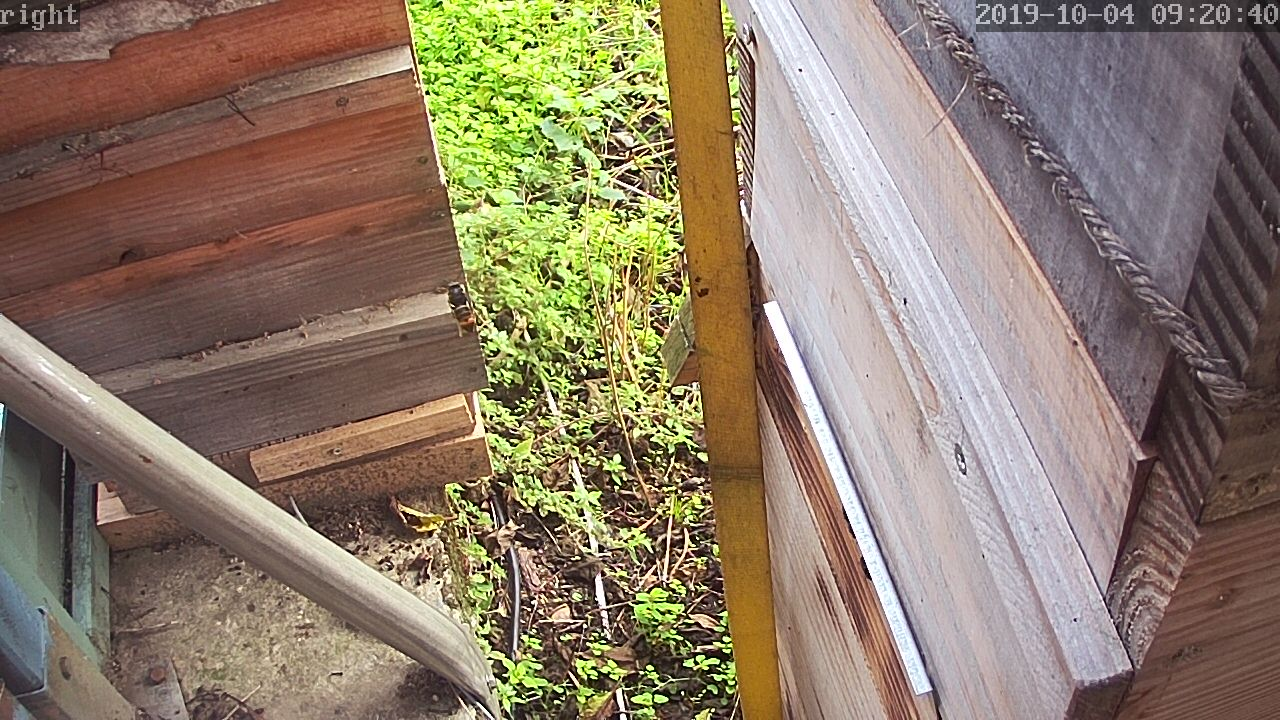hornet: (370, 480, 425, 542), (438, 276, 479, 329), (684, 452, 715, 493)
